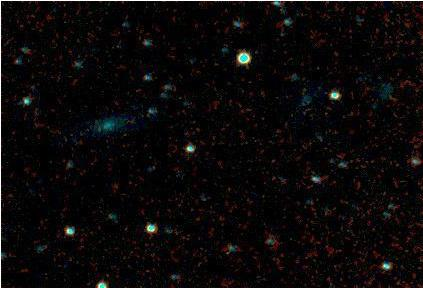star: (211, 240, 241, 270)
